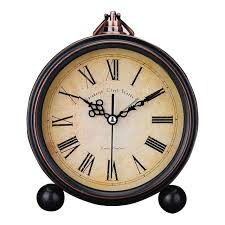alarm_clock: (26, 11, 199, 213)
